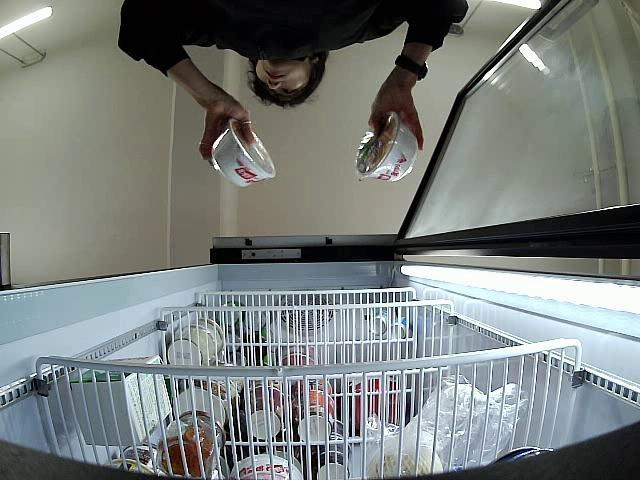09_yukGaeJang: (357, 109, 418, 180), (212, 118, 276, 185)
